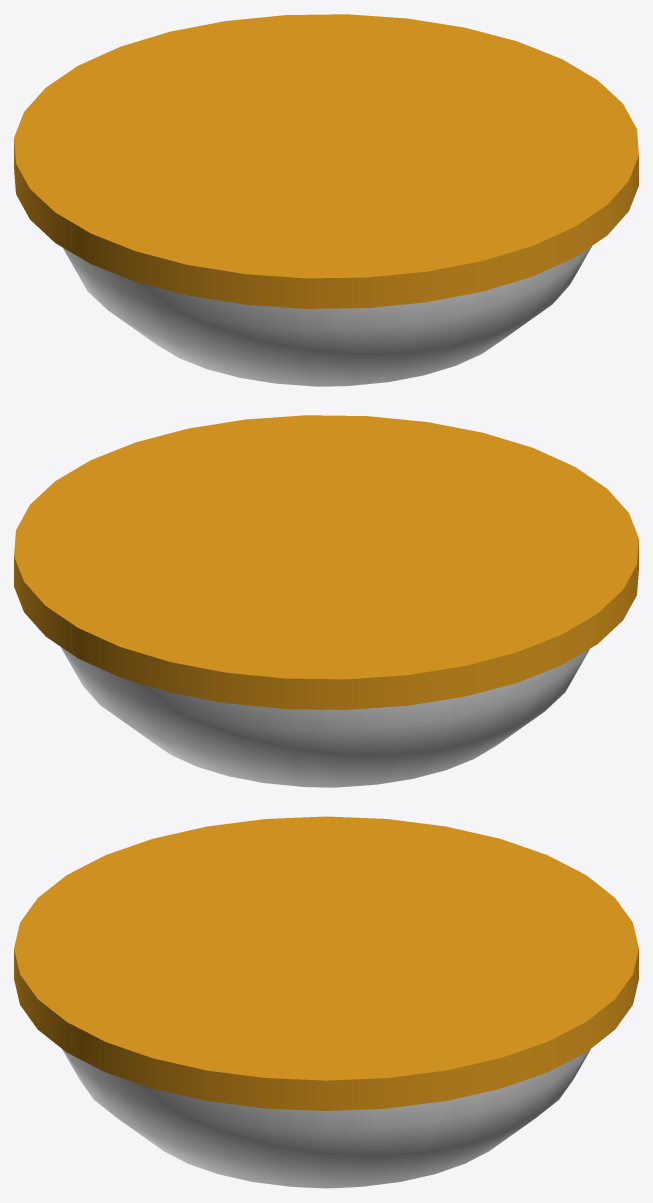
Rendered from Lamp_1.fbx.
The picture shows the model from 3 angles, top to bottom: view 1: azimuth 30°, elevation 25°; view 2: azimuth 150°, elevation 25°; view 3: azimuth 270°, elevation 25°; orthographic projection.
Visible parts, largest first — view 1: Circle; view 2: Circle; view 3: Circle.
Part boxes in pixels (left/top/right/bottom): Circle: left=14, top=14, right=638, bottom=386; Circle: left=14, top=415, right=638, bottom=787; Circle: left=14, top=816, right=638, bottom=1188.
Size of the model in its own units: 227 by 91.12 by 227.
